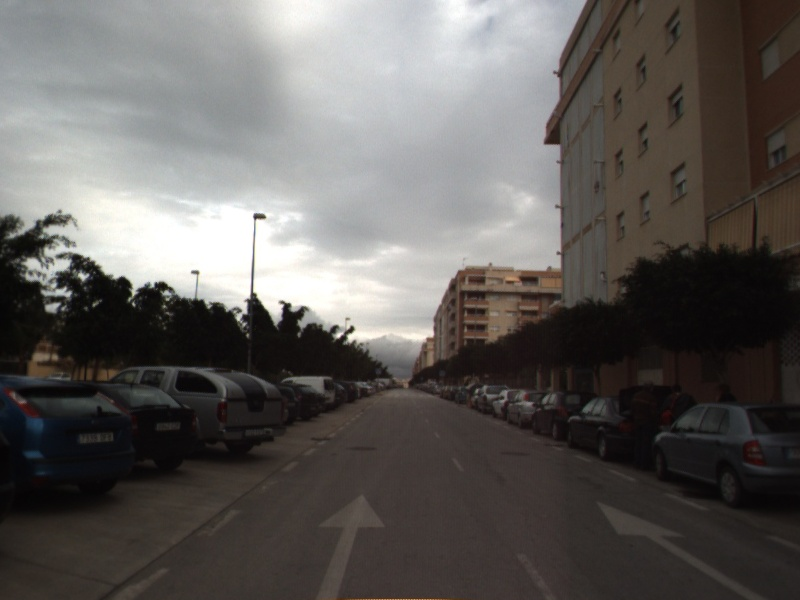STRAIGHT: (594, 499, 771, 600), (311, 491, 388, 600)
